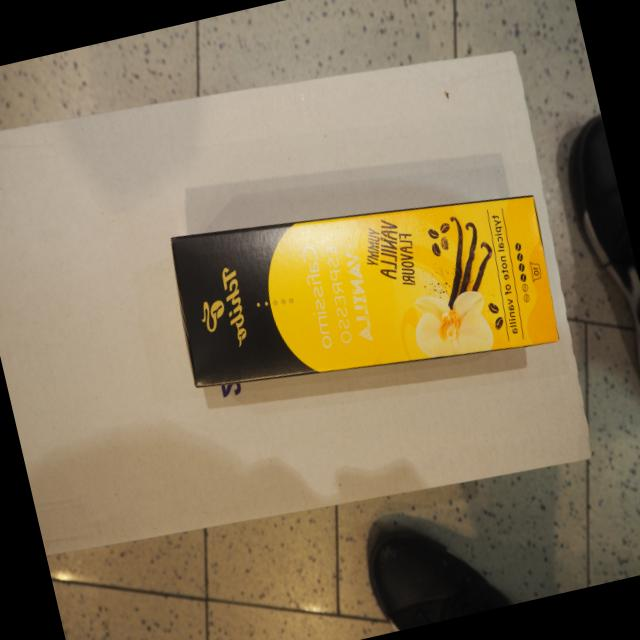Simo Es Vanilla: (167, 191, 561, 394)
